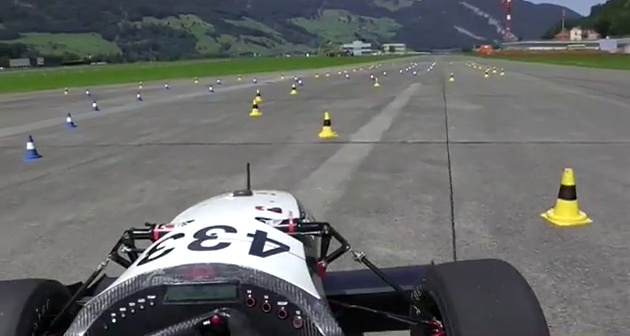Cone: (540, 166, 593, 228), (316, 111, 339, 140), (21, 133, 43, 160), (248, 97, 264, 119), (62, 112, 79, 130), (253, 89, 266, 102), (90, 98, 101, 112), (289, 83, 299, 96)
